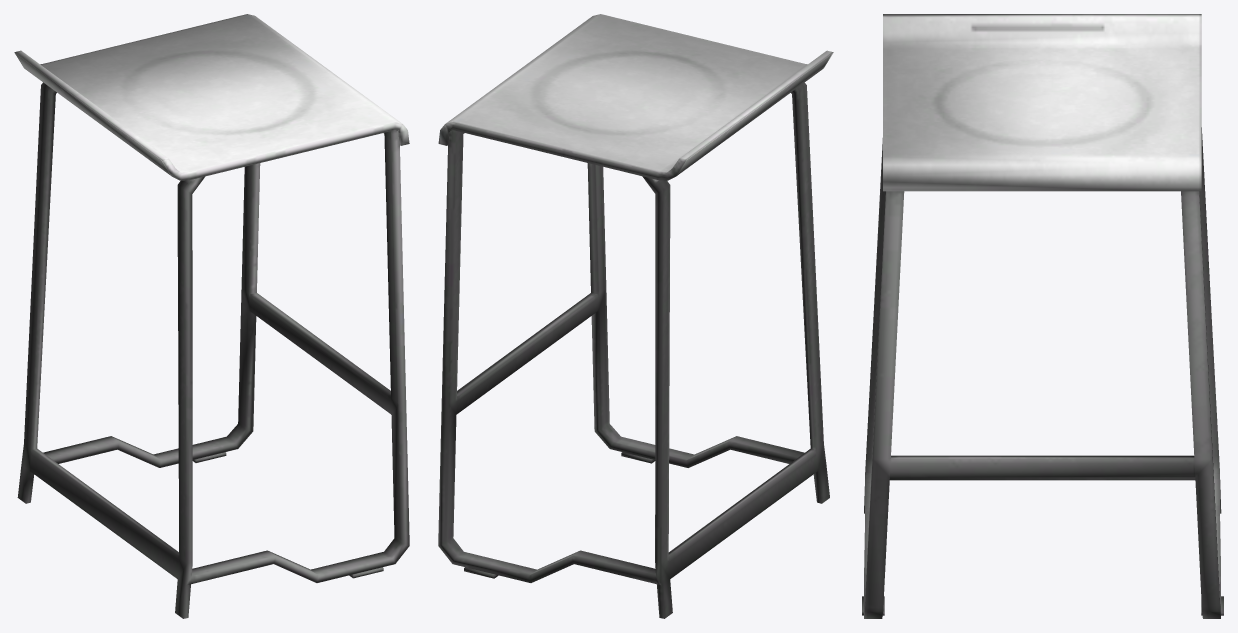
The model's file is Chair_Bar_02.FBX.
The picture shows the model from 3 angles, left to right: view 1: azimuth 30°, elevation 25°; view 2: azimuth 150°, elevation 25°; view 3: azimuth 270°, elevation 25°; orthographic projection. The views are drawn at different scales.
Visible parts, largest first — view 1: Chair_Bar_02; view 2: Chair_Bar_02; view 3: Chair_Bar_02.
Part boxes in pixels (x1,y1,x2,y2): Chair_Bar_02: (14,14,409,618); Chair_Bar_02: (438,14,833,618); Chair_Bar_02: (862,14,1223,618).
Bounding box in the file's own units: 0.5447 × 0.9572 × 0.6401.
